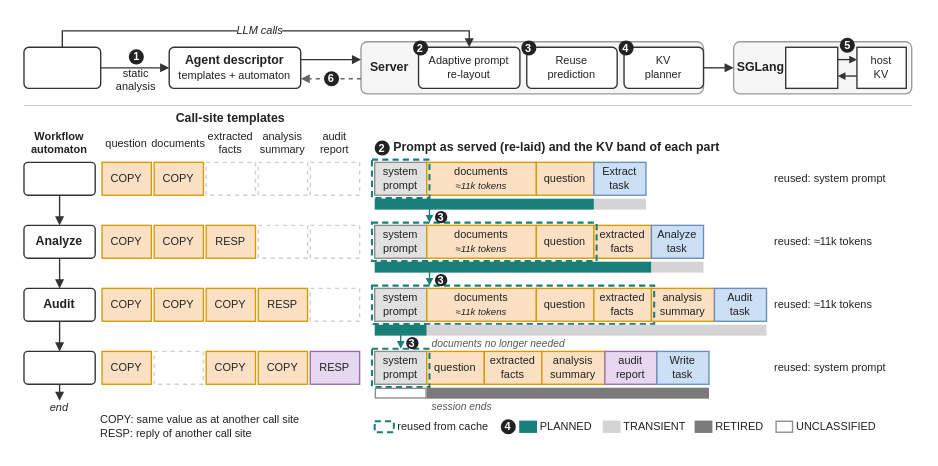
Some shapes in this 938 by 466 pixel diagram are drawn without their labels. The shapes that lost their labels are listed below. From the top down, each one's centre as x and y in pixels, then its label:
the point at 62,67: Agent program
the point at 811,67: device KV
the point at 59,178: Extract
the point at 59,367: Write
